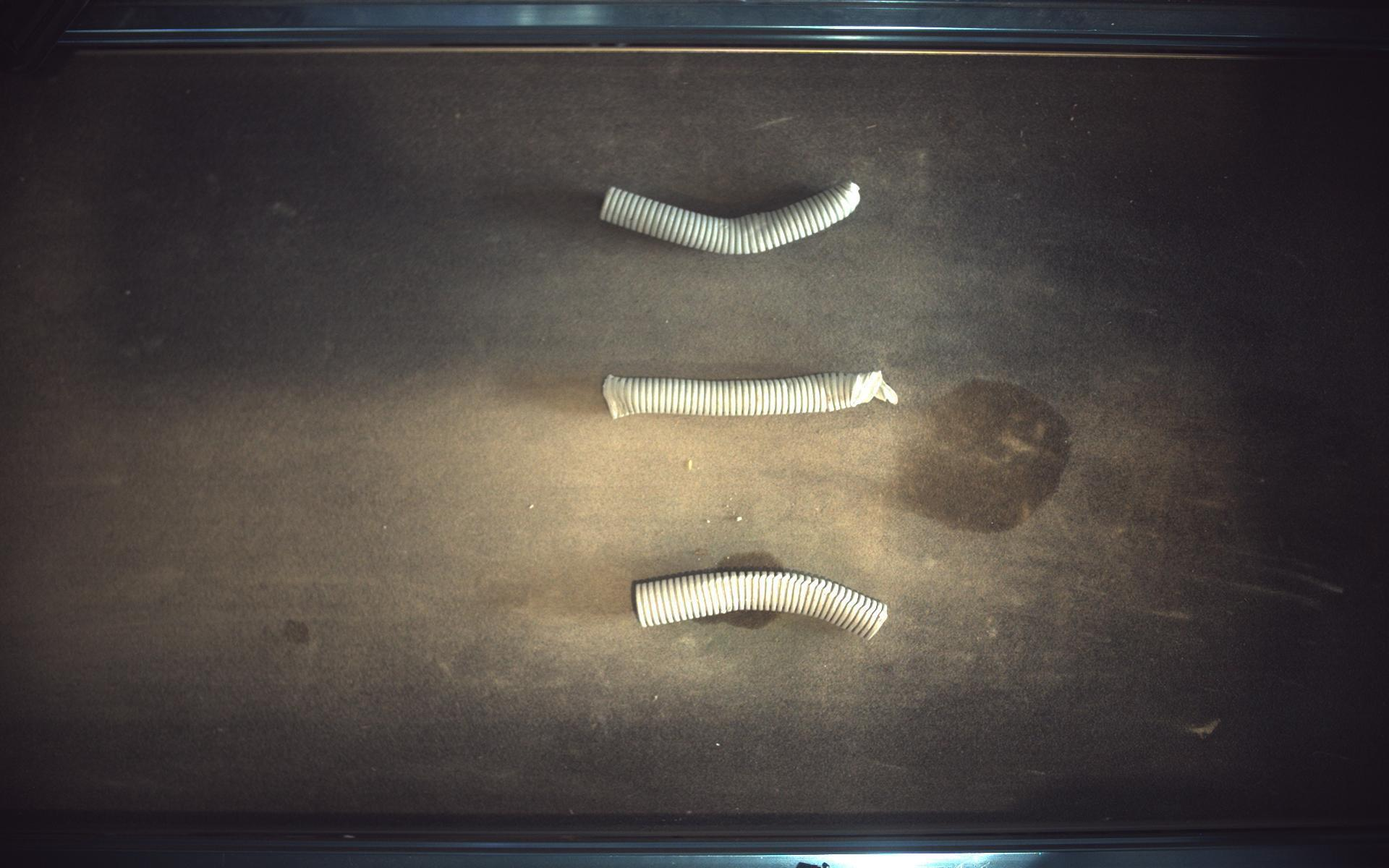pipes: (601, 180, 861, 254), (634, 571, 889, 639), (603, 370, 900, 419)
